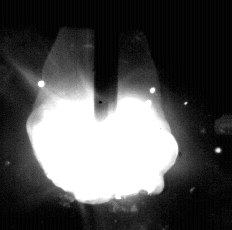arame: (95, 0, 119, 120)
poca: (25, 0, 171, 230)
